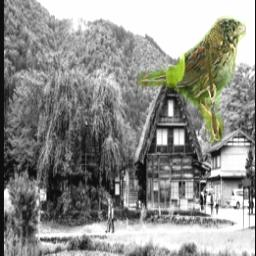Sparrow: (136, 15, 246, 143)
